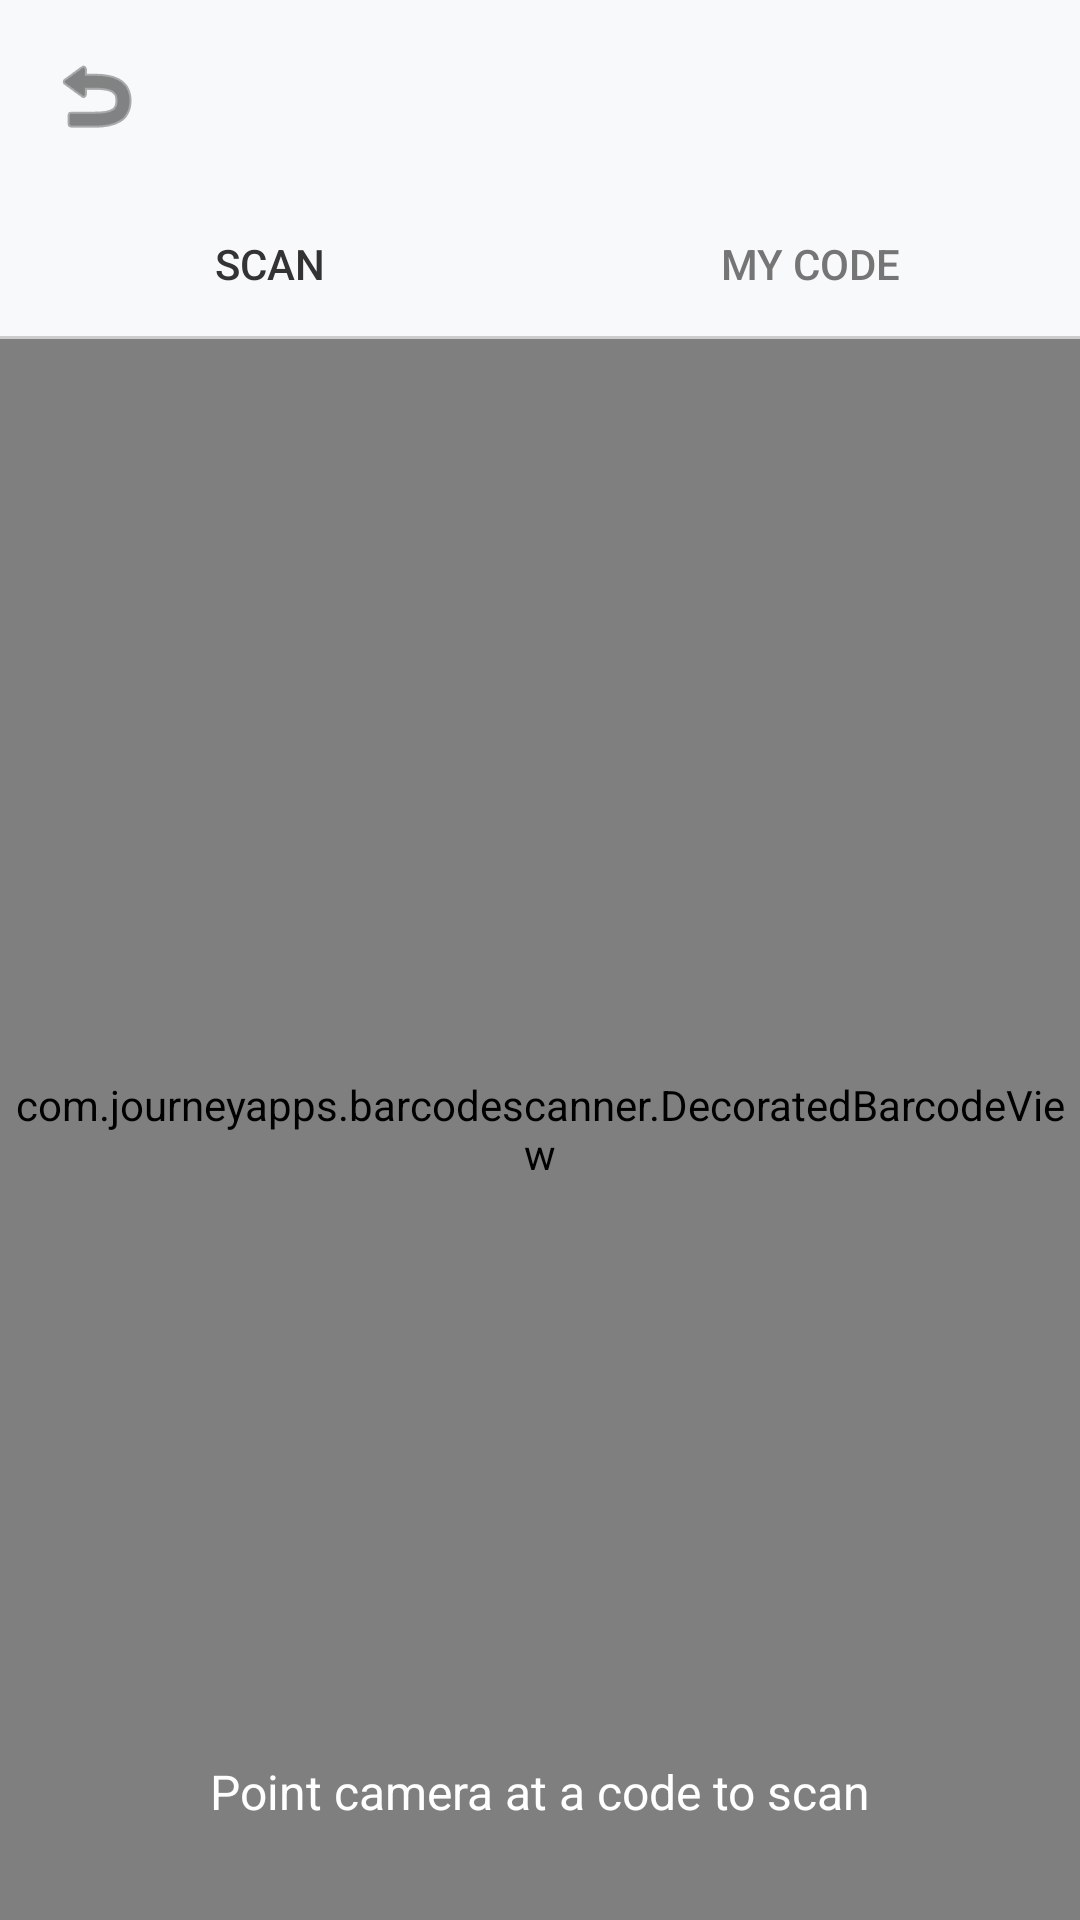

Icons on this 1080×1920 Android screen, each with its box as (x1, y1, x2, y2):
revert: (63, 65, 132, 128)
